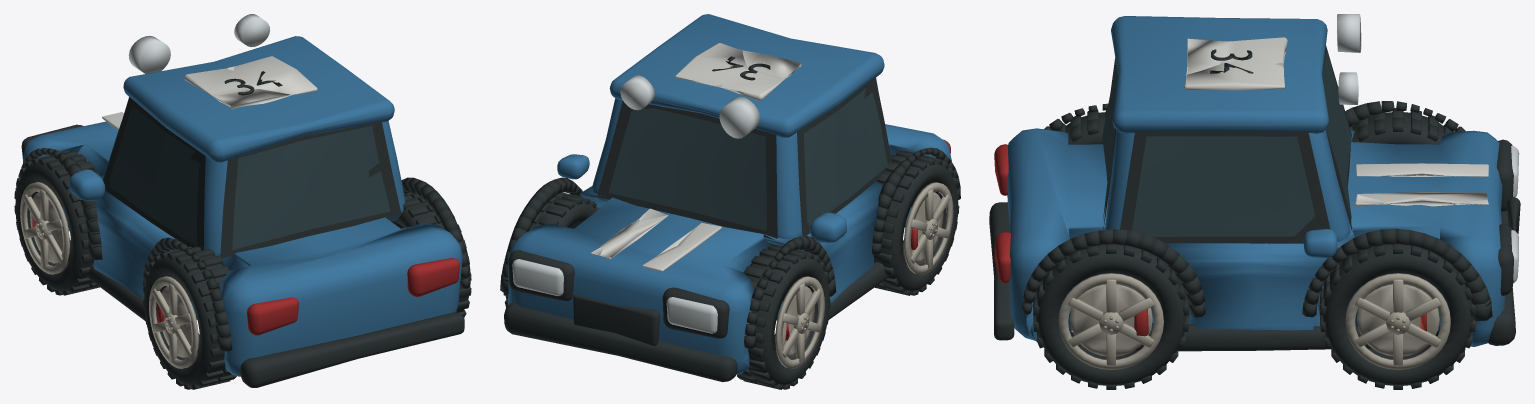
Rendered from car_dirt.glb.
3 views of the same model, side by side, from view 1: azimuth 30°, elevation 25°; view 2: azimuth 150°, elevation 25°; view 3: azimuth 270°, elevation 25° (orthographic). The views are drawn at different scales.
Parts seen in each view (by area): view 1: Body.002, WheelMesh.010, WheelMesh.008, WheelMesh.011; view 2: Body.002, WheelMesh.008, WheelMesh.010, WheelMesh.009; view 3: Body.002, WheelMesh.009, WheelMesh.011, WheelMesh.008, WheelMesh.010.
Boxes of the visible parts, x1,y1,x2,y2 form: Body.002: (15, 14, 469, 387); WheelMesh.010: (143, 246, 236, 389); WheelMesh.008: (14, 150, 100, 295); WheelMesh.011: (390, 192, 471, 317); Body.002: (500, 14, 960, 382); WheelMesh.008: (737, 245, 830, 389); WheelMesh.010: (874, 151, 959, 295); WheelMesh.009: (503, 192, 599, 307); Body.002: (989, 14, 1520, 351); WheelMesh.009: (1320, 244, 1476, 389); WheelMesh.011: (1033, 244, 1189, 389); WheelMesh.008: (1350, 108, 1451, 144); WheelMesh.010: (1058, 110, 1106, 144).
Size of the model in its own units: 2.64 by 2.24 by 3.89.
